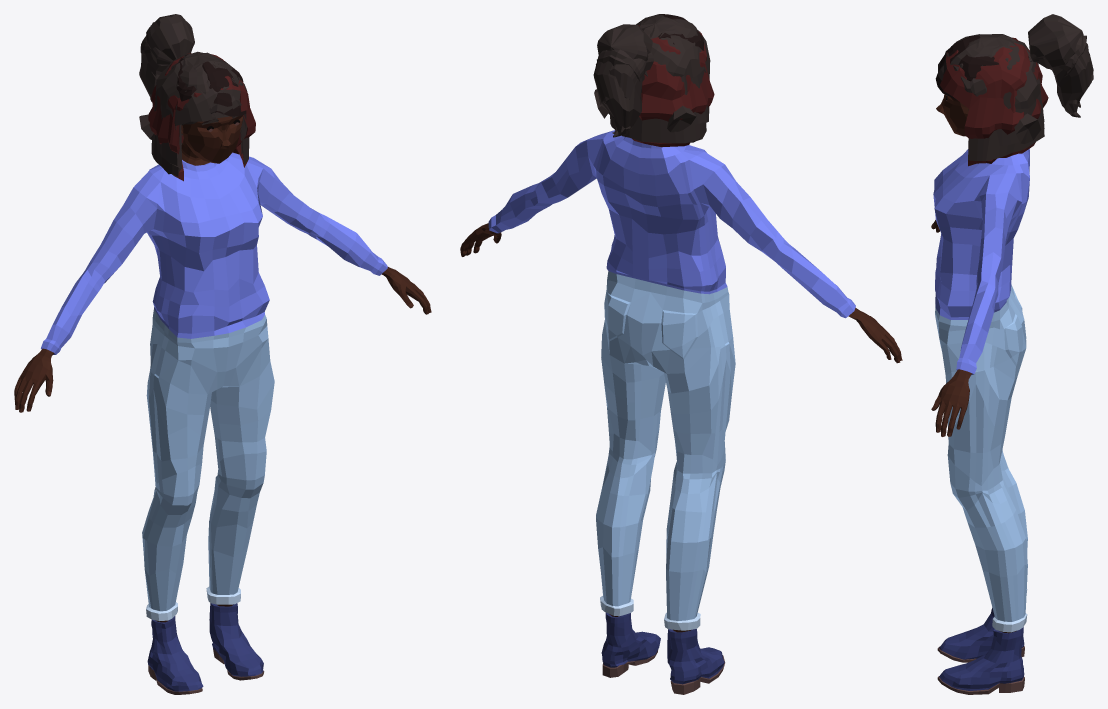
The model's file is character_NPC_F_01.fbx.
The picture shows the model from 3 angles, left to right: view 1: azimuth 30°, elevation 25°; view 2: azimuth 150°, elevation 25°; view 3: azimuth 270°, elevation 25°; orthographic projection. The views are drawn at different scales.
Parts seen in each view (by area): view 1: charaBody_npcF_V01_geo, charaHair_NPC_F_V02_geo, charaHair_NPC_F_V03_geo, charaHair_NPC_F_V08_geo, charaHair_NPC_F_V09_geo, charaHair_NPC_F_V07_geo, charaHair_NPC_F_V01_geo, charaHair_NPC_F_V10_geo, charaHair_NPC_F_V05_geo; view 2: charaBody_npcF_V01_geo, charaHair_NPC_F_V03_geo, charaHair_NPC_F_V05_geo, charaHair_NPC_F_V02_geo, charaHair_NPC_F_V01_geo, charaHair_NPC_F_V08_geo, charaHair_NPC_F_V10_geo, charaHair_NPC_F_V04_geo; view 3: charaBody_npcF_V01_geo, charaHair_NPC_F_V03_geo, charaHair_NPC_F_V08_geo, charaHair_NPC_F_V02_geo, charaHair_NPC_F_V05_geo, charaHair_NPC_F_V10_geo, charaHair_NPC_F_V01_geo, charaHair_NPC_F_V09_geo, charaHair_NPC_F_V07_geo, charaHair_NPC_F_V06_geo.
Boxes of the visible parts, left/top/right/bottom form: charaBody_npcF_V01_geo: left=14, top=115, right=431, bottom=694; charaHair_NPC_F_V02_geo: left=154, top=54, right=247, bottom=168; charaHair_NPC_F_V03_geo: left=148, top=53, right=255, bottom=181; charaHair_NPC_F_V08_geo: left=146, top=14, right=235, bottom=134; charaHair_NPC_F_V09_geo: left=172, top=57, right=246, bottom=116; charaHair_NPC_F_V07_geo: left=179, top=26, right=241, bottom=135; charaHair_NPC_F_V01_geo: left=151, top=89, right=249, bottom=177; charaHair_NPC_F_V10_geo: left=139, top=52, right=238, bottom=139; charaHair_NPC_F_V05_geo: left=139, top=22, right=167, bottom=98; charaBody_npcF_V01_geo: left=460, top=130, right=902, bottom=694; charaHair_NPC_F_V03_geo: left=615, top=25, right=714, bottom=147; charaHair_NPC_F_V05_geo: left=593, top=49, right=646, bottom=137; charaHair_NPC_F_V02_geo: left=608, top=20, right=710, bottom=124; charaHair_NPC_F_V01_geo: left=610, top=115, right=706, bottom=143; charaHair_NPC_F_V08_geo: left=597, top=24, right=695, bottom=73; charaHair_NPC_F_V10_geo: left=594, top=14, right=696, bottom=132; charaHair_NPC_F_V04_geo: left=609, top=58, right=646, bottom=132; charaBody_npcF_V01_geo: left=931, top=94, right=1029, bottom=694; charaHair_NPC_F_V03_geo: left=940, top=37, right=1048, bottom=166; charaHair_NPC_F_V08_geo: left=953, top=14, right=1081, bottom=70; charaHair_NPC_F_V02_geo: left=945, top=36, right=1044, bottom=146; charaHair_NPC_F_V05_geo: left=1052, top=31, right=1093, bottom=117; charaHair_NPC_F_V10_geo: left=938, top=34, right=1041, bottom=143; charaHair_NPC_F_V01_geo: left=943, top=54, right=1044, bottom=160; charaHair_NPC_F_V09_geo: left=935, top=35, right=1029, bottom=100; charaHair_NPC_F_V07_geo: left=938, top=34, right=1065, bottom=80; charaHair_NPC_F_V06_geo: left=998, top=35, right=1093, bottom=116.
Bounding box in the file's own units: 328 × 480 × 108.
